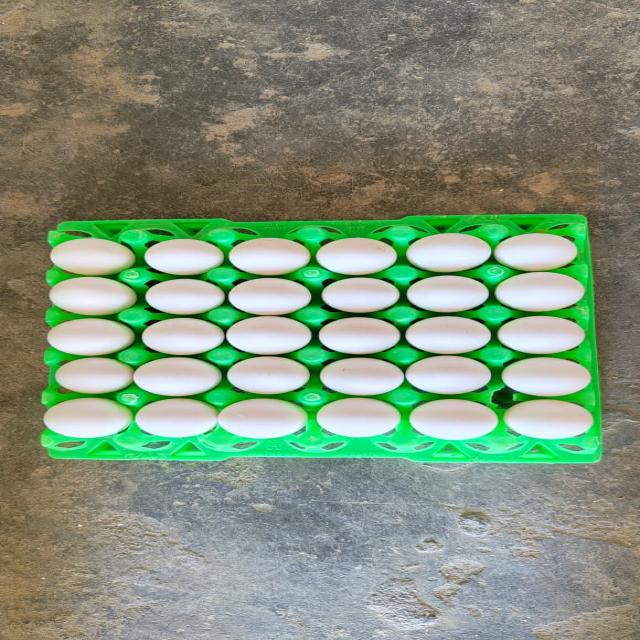egg_tray: (43, 216, 597, 462), (190, 342, 258, 410), (44, 348, 93, 405), (97, 385, 169, 412), (47, 307, 86, 325), (47, 268, 78, 285), (180, 316, 183, 316), (250, 310, 252, 310), (469, 281, 470, 281), (248, 267, 250, 267)
